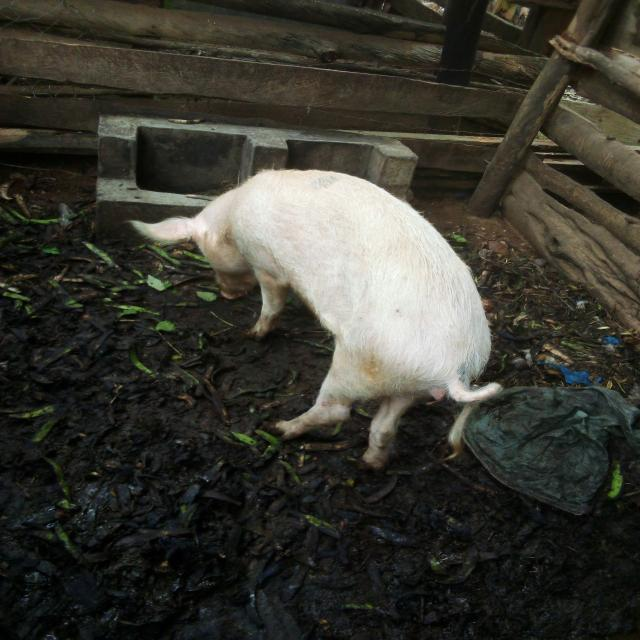pig: (84, 140, 555, 514)
